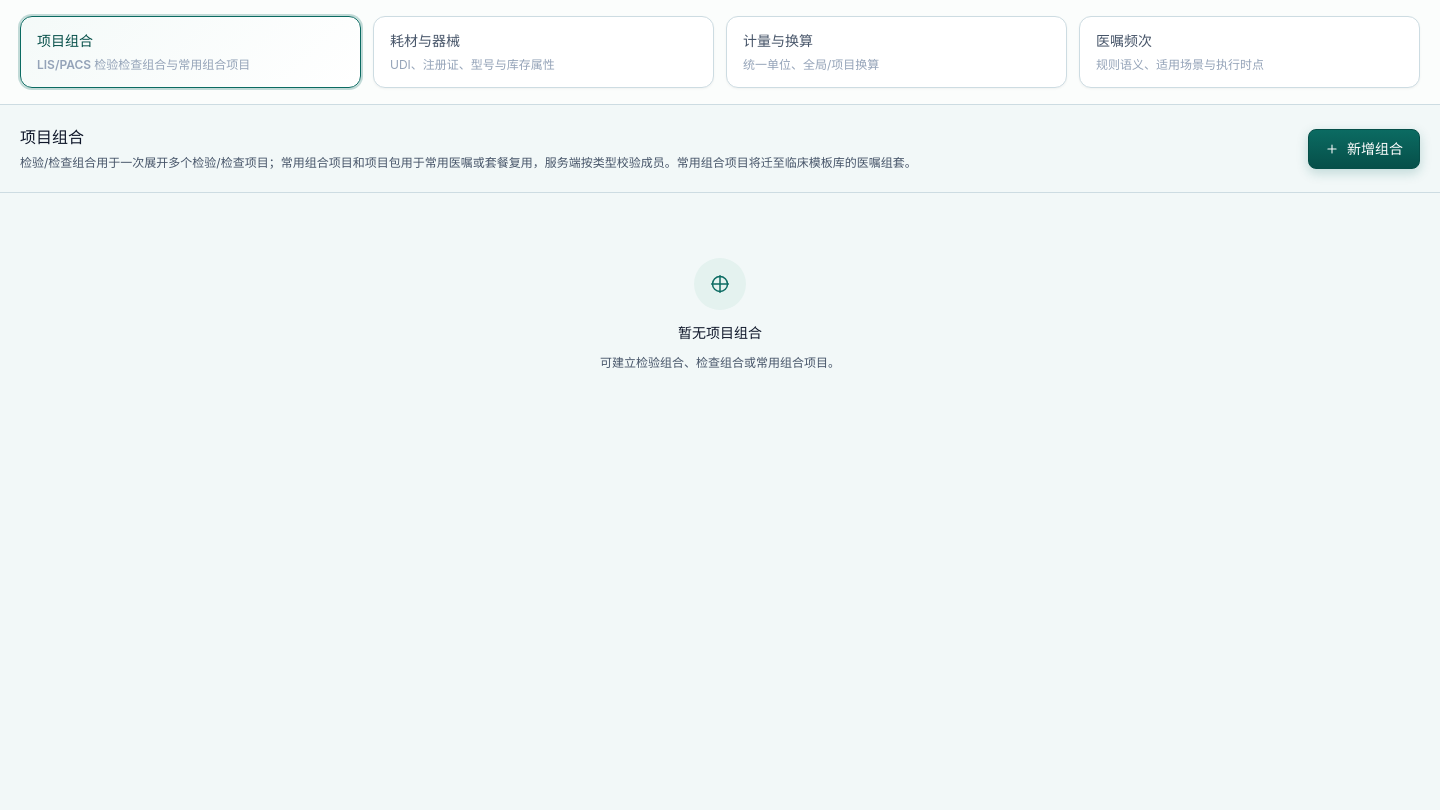
Scenario: OperationalMasterDataPanel & ClinicalServiceConfigurationDialog › does not report unpriced group tube charges as zero and clears a failed refresh
The image size is (1440, 810).
Click the button "新增组合" at (1364, 148), box [1308,128,1420,168]
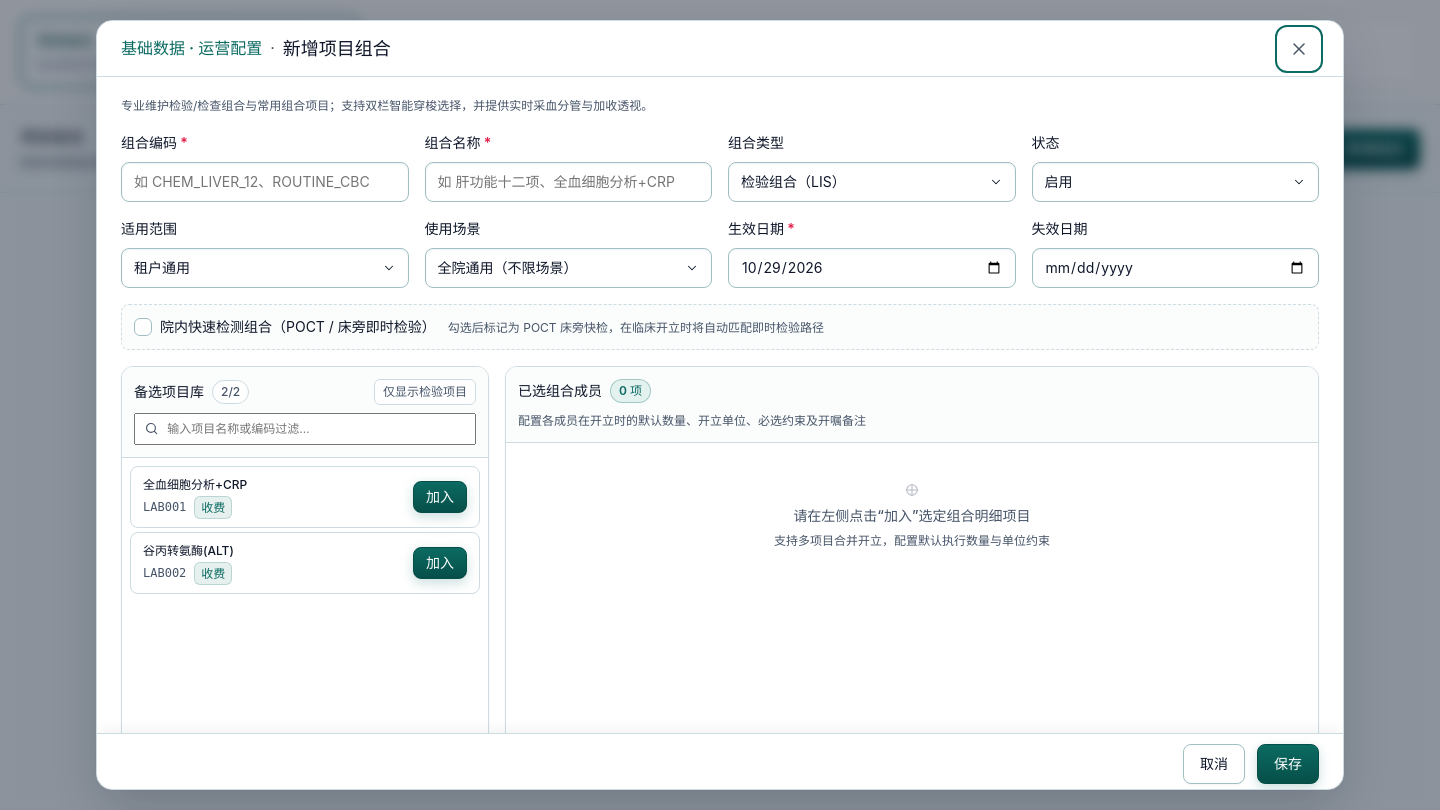
Click the button "加入" in the row of "全血细胞分析+CRP" at (440, 497), box [413,481,467,513]
(page scrolled)
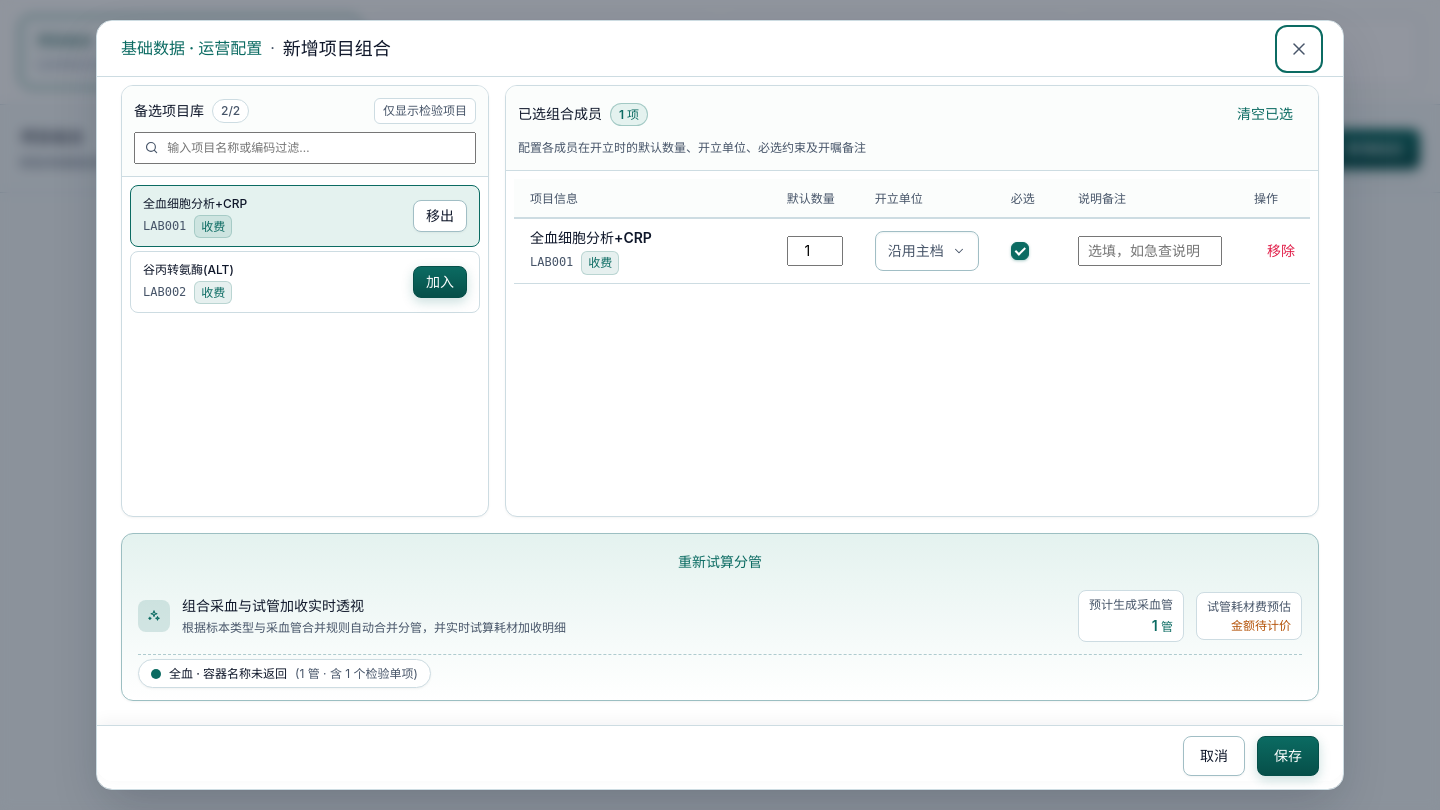
Expected: the text "金额待计价" is shown, [1231,616,1291,635]
Click the button "重新试算分管" at (720, 562), box [138,546,1302,578]
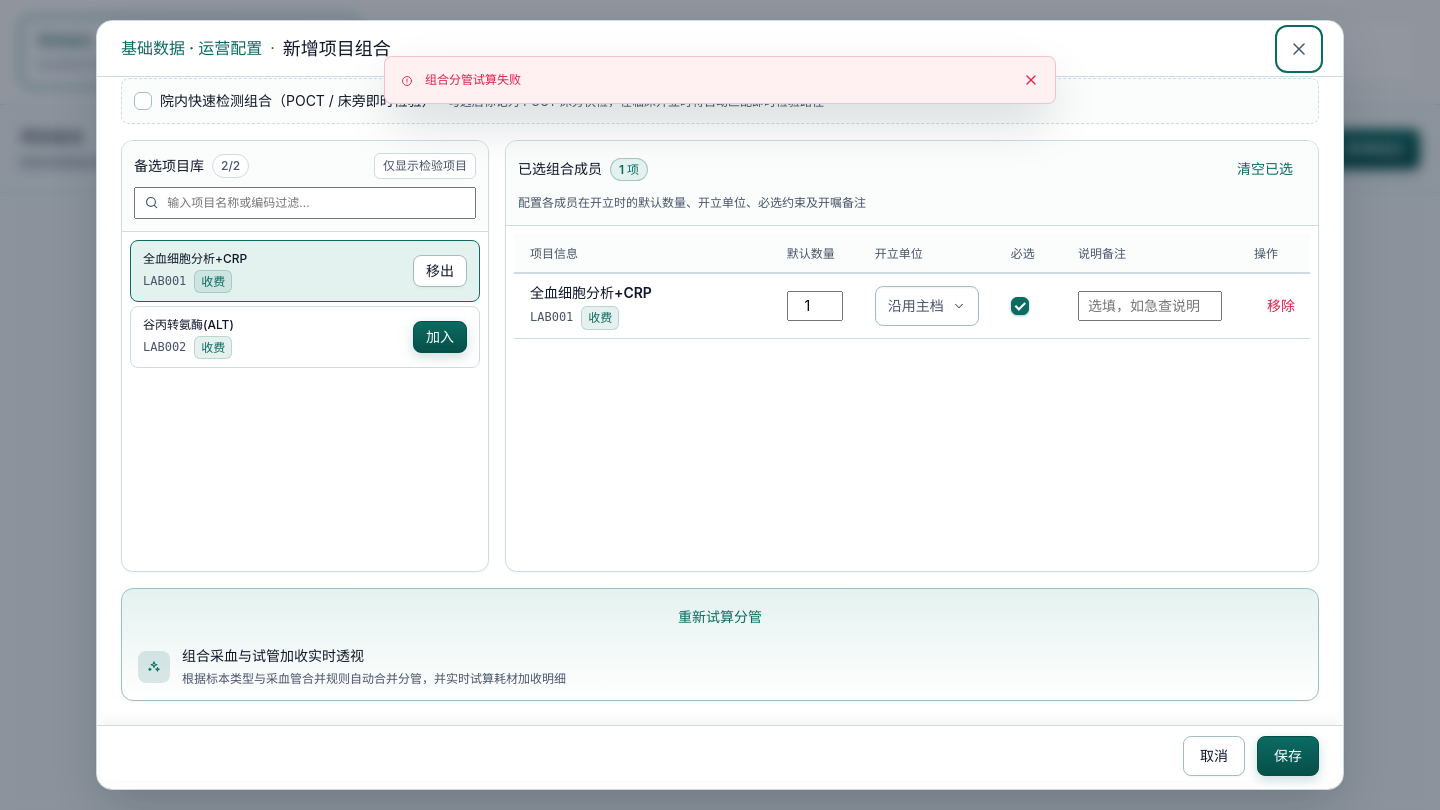
Expected: the text "组合分管试算失败" is shown, [425,72,521,87]
Expected: the text "金额待计价" is gone
Expected: the text "预计生成采血管" is gone
